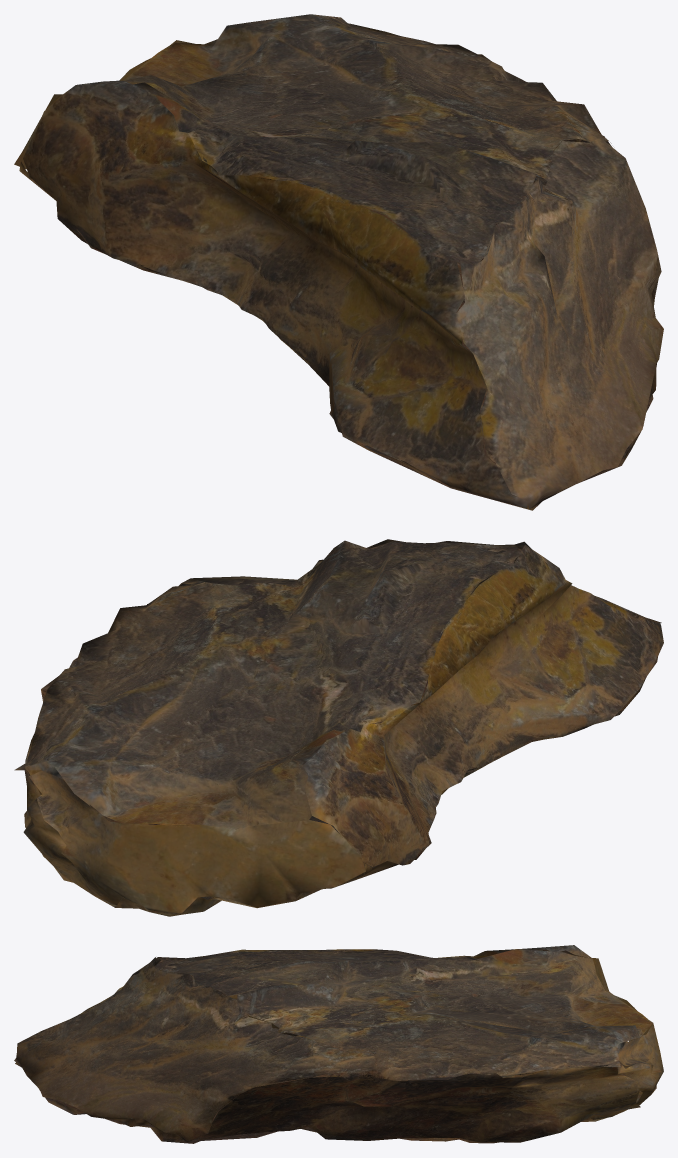
File: rock_09.glb
3 views of the same model, one above another, from view 1: azimuth 30°, elevation 25°; view 2: azimuth 150°, elevation 25°; view 3: azimuth 270°, elevation 25° (orthographic). The views are drawn at different scales.
Parts seen in each view (by area): view 1: rock_09; view 2: rock_09; view 3: rock_09.
Boxes of the visible parts, x1,y1,x2,y2 form: rock_09: (14, 14, 663, 510); rock_09: (14, 539, 663, 916); rock_09: (14, 945, 663, 1143).
Size of the model in its own units: 0.0746 by 0.0334 by 0.1447.
1 material, 1 textured.
